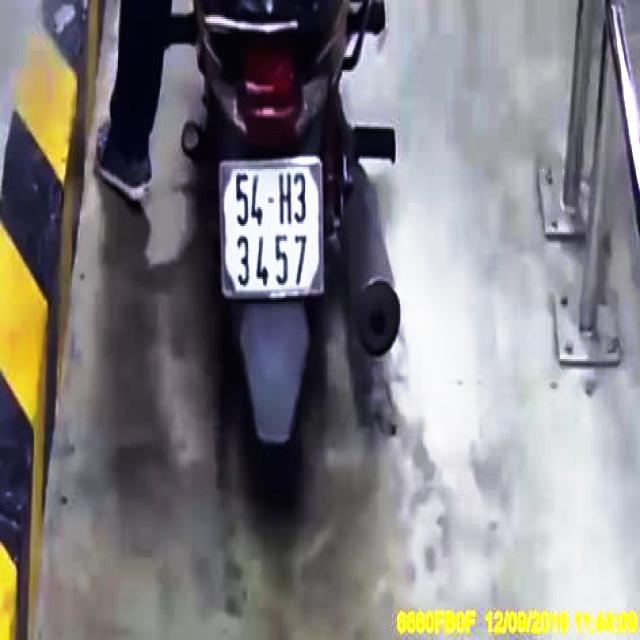license_plate: (224, 158, 324, 292)
